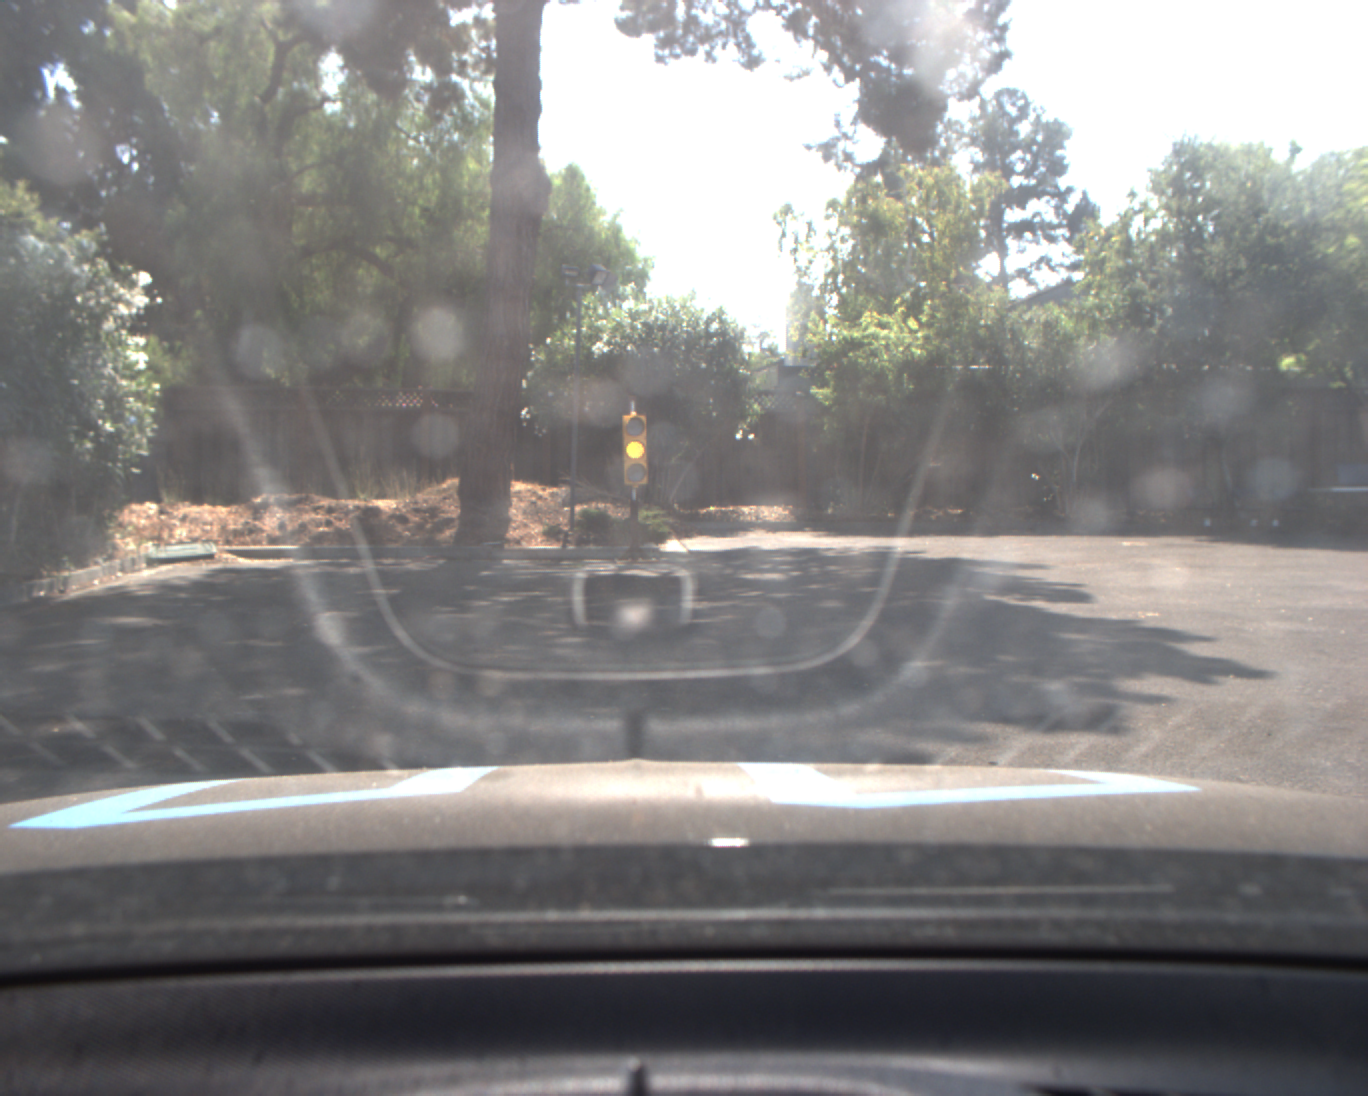yellow: (619, 409, 651, 488)
